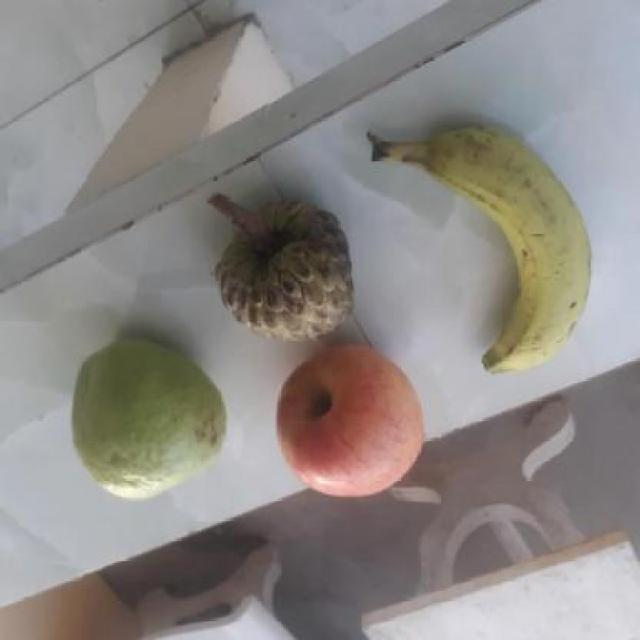apple: (270, 350, 428, 495)
banana: (382, 123, 586, 375)
guava: (65, 344, 225, 498)
sugar apple: (204, 196, 353, 341)
